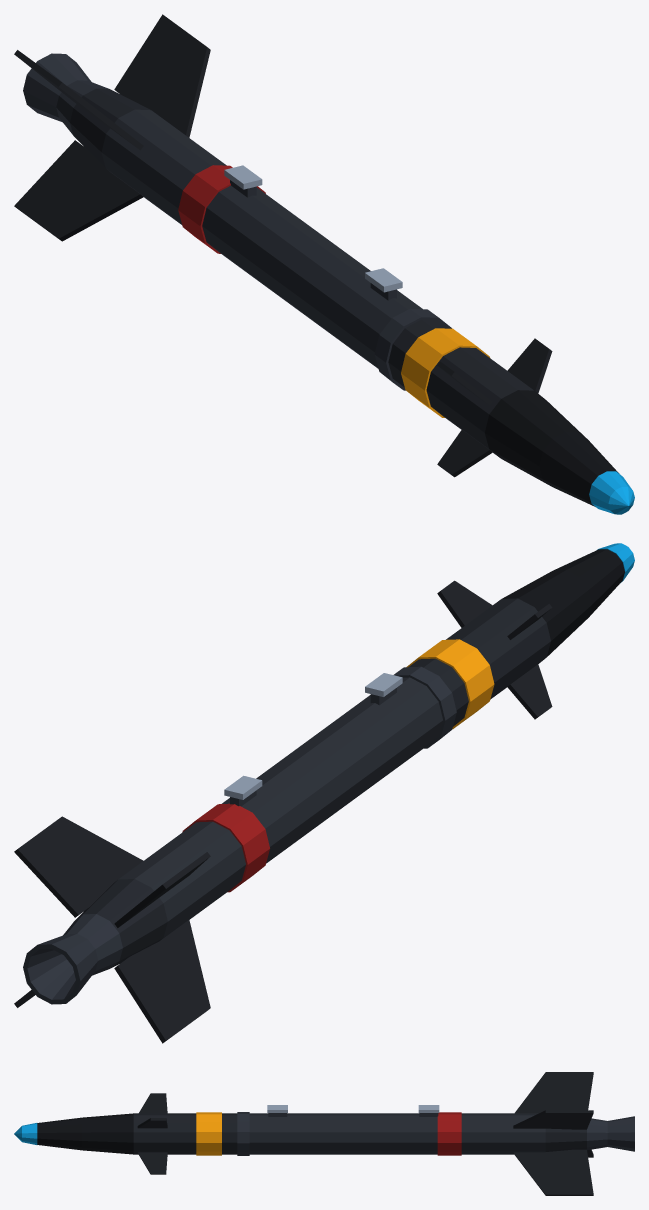
File: lowpoly-missile-12s-black.glb
3 views of the same model, one above another, from view 1: azimuth 30°, elevation 25°; view 2: azimuth 150°, elevation 25°; view 3: azimuth 270°, elevation 25° (orthographic). The views are drawn at different scales.
Visible parts, largest first — view 1: Motor_Body, Nosecone, Tail_Fin_3, Tail_Fin_1, Warhead_Body, Exhaust_Nozzle, HE_Band, Tail_BoatTail, Motor_ID_Band, Seeker_Dome, Mid_Collar, Canard_3 (+4 smaller); view 2: Motor_Body, Tail_Fin_3, Tail_Fin_1, Warhead_Body, Exhaust_Nozzle, Nosecone, Tail_BoatTail, HE_Band, Motor_ID_Band, Mid_Collar, Canard_3, Canard_1 (+3 smaller); view 3: Motor_Body, Nosecone, Warhead_Body, Tail_Fin_4, Tail_Fin_2, Exhaust_Nozzle, Tail_Fin_1, HE_Band, Motor_ID_Band, Tail_BoatTail, Mid_Collar, Canard_4 (+5 smaller).
Part boxes in pixels (x1=…): Motor_Body: x1=101, y1=109, x2=422, y2=368; Nosecone: x1=485, y1=390, x2=619, y2=506; Tail_Fin_3: x1=14, y1=140, x2=143, y2=241; Tail_Fin_1: x1=114, y1=14, x2=210, y2=137; Warhead_Body: x1=388, y1=319, x2=533, y2=457; Exhaust_Nozzle: x1=23, y1=53, x2=108, y2=134; HE_Band: x1=401, y1=328, x2=489, y2=417; Tail_BoatTail: x1=70, y1=88, x2=150, y2=168; Motor_ID_Band: x1=178, y1=165, x2=265, y2=253; Seeker_Dome: x1=589, y1=471, x2=634, y2=514; Mid_Collar: x1=374, y1=308, x2=451, y2=390; Canard_3: x1=437, y1=430, x2=492, y2=477; Motor_Body: x1=118, y1=677, x2=442, y2=938; Tail_Fin_3: x1=114, y1=920, x2=210, y2=1043; Tail_Fin_1: x1=14, y1=816, x2=143, y2=917; Warhead_Body: x1=408, y1=598, x2=550, y2=726; Exhaust_Nozzle: x1=23, y1=914, x2=122, y2=1004; Nosecone: x1=502, y1=549, x2=624, y2=656; Tail_BoatTail: x1=74, y1=879, x2=167, y2=968; HE_Band: x1=406, y1=639, x2=494, y2=729; Motor_ID_Band: x1=182, y1=803, x2=269, y2=892; Mid_Collar: x1=394, y1=666, x2=456, y2=748; Canard_3: x1=507, y1=664, x2=552, y2=719; Canard_1: x1=437, y1=580, x2=492, y2=627; Motor_Body: x1=249, y1=1113, x2=545, y2=1154; Nosecone: x1=37, y1=1113, x2=133, y2=1154; Warhead_Body: x1=133, y1=1113, x2=237, y2=1154; Tail_Fin_4: x1=513, y1=1149, x2=593, y2=1195; Tail_Fin_2: x1=515, y1=1072, x2=593, y2=1113; Exhaust_Nozzle: x1=587, y1=1116, x2=634, y2=1151; Tail_Fin_1: x1=513, y1=1110, x2=593, y2=1129; HE_Band: x1=196, y1=1112, x2=221, y2=1155; Motor_ID_Band: x1=437, y1=1112, x2=461, y2=1155; Tail_BoatTail: x1=545, y1=1128, x2=586, y2=1151; Mid_Collar: x1=237, y1=1112, x2=249, y2=1155; Canard_4: x1=137, y1=1152, x2=167, y2=1174.
Bounding box in the file's own units: 0.2751 × 0.2751 × 1.81.
